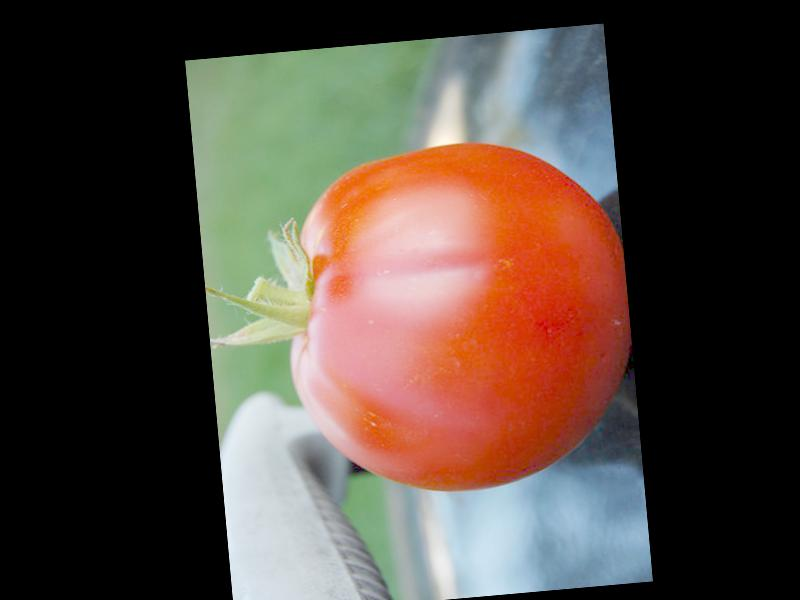Tomato: (272, 129, 643, 506)
